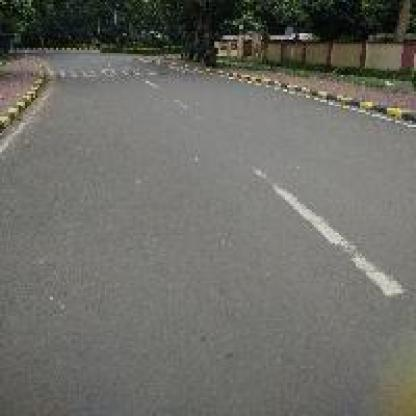Speed Bump: (47, 67, 186, 81)
